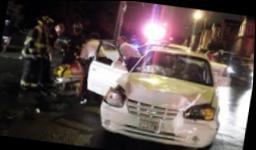Bonnet: (112, 73, 215, 111)
Light: (185, 108, 218, 121)
